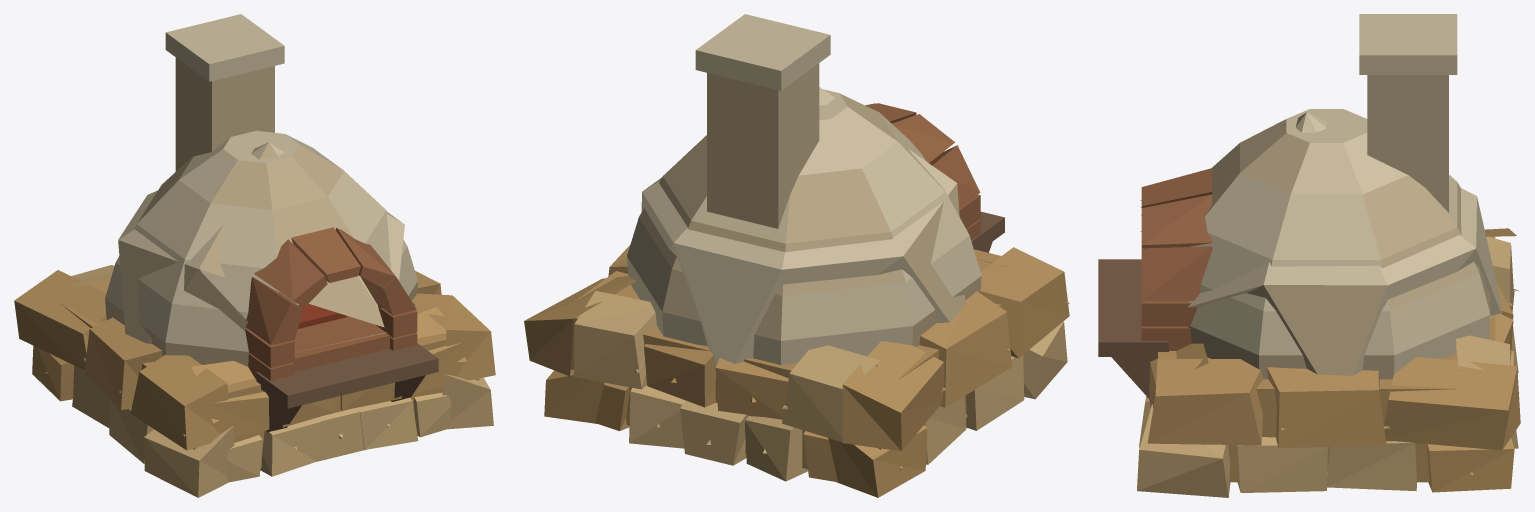
Rendered from pf_oven.glb.
3 views of the same model, side by side, from view 1: azimuth 30°, elevation 25°; view 2: azimuth 150°, elevation 25°; view 3: azimuth 270°, elevation 25° (orthographic). The views are drawn at different scales.
Parts seen in each view (by area): view 1: body, body__far; view 2: body, body__far; view 3: body, body__far.
Boxes of the visible parts, x1,y1,x2,y2 form: body: (14,14,495,497); body__far: (45,78,467,449); body: (524,14,1069,497); body__far: (635,73,1069,469); body: (1098,14,1520,497); body__far: (1140,112,1519,475).
Size of the model in its own units: 0.933 by 0.8971 by 0.9138.
